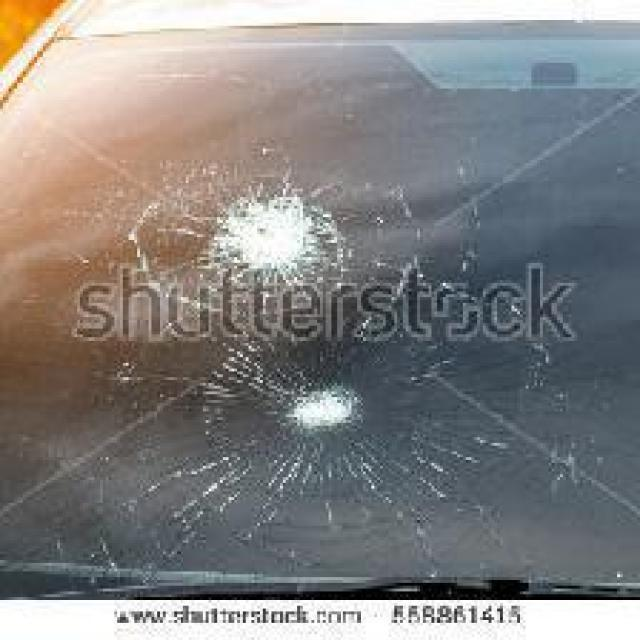damaged: (208, 340, 441, 523), (128, 163, 423, 283)
